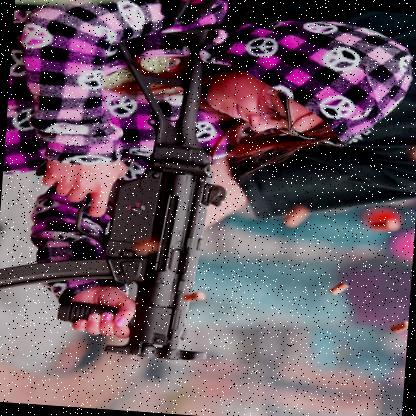rifle: (0, 13, 242, 364)
